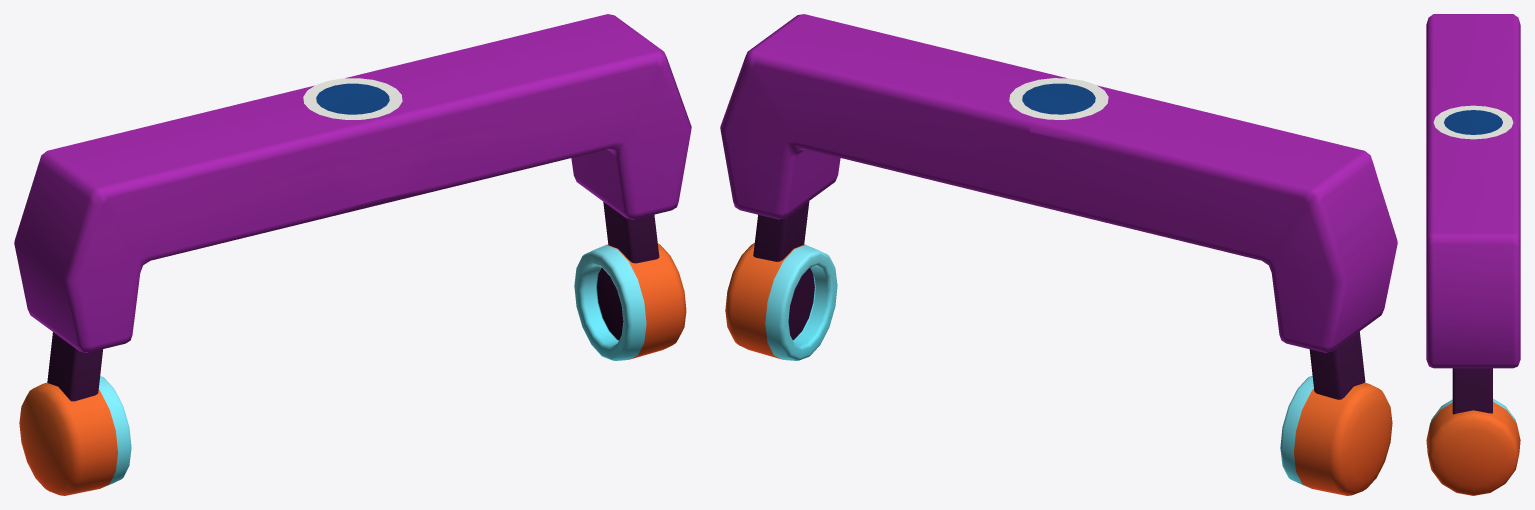
3 renders of one model, left to right at view 1: azimuth 30°, elevation 25°; view 2: azimuth 150°, elevation 25°; view 3: azimuth 270°, elevation 25°, orthographic. The views are drawn at different scales.
Visible parts, largest first — view 1: shape2_3, top_cycle; view 2: shape2_3, top_cycle; view 3: shape2_3, top_cycle.
Part boxes in pixels (x1=…): shape2_3: x1=14, y1=14, x2=691, y2=495; top_cycle: x1=303, y1=78, x2=402, y2=119; shape2_3: x1=720, y1=14, x2=1397, y2=495; top_cycle: x1=1009, y1=78, x2=1108, y2=119; shape2_3: x1=1426, y1=14, x2=1520, y2=495; top_cycle: x1=1433, y1=105, x2=1513, y2=139.
Size of the model in its own units: 30.91 by 15.06 by 5.
